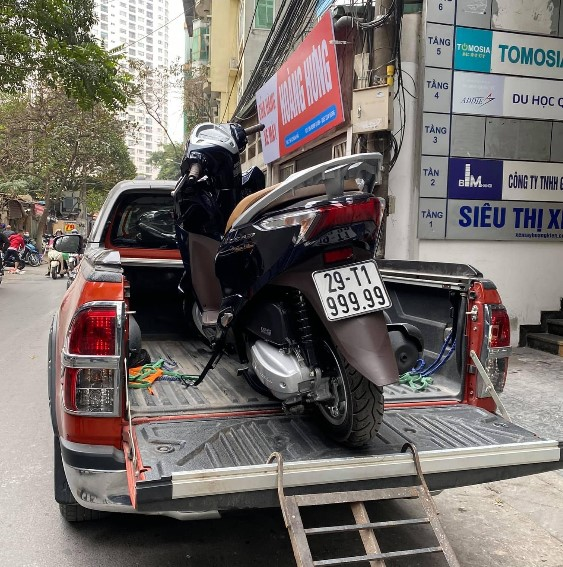bien_so: (307, 254, 398, 326)
